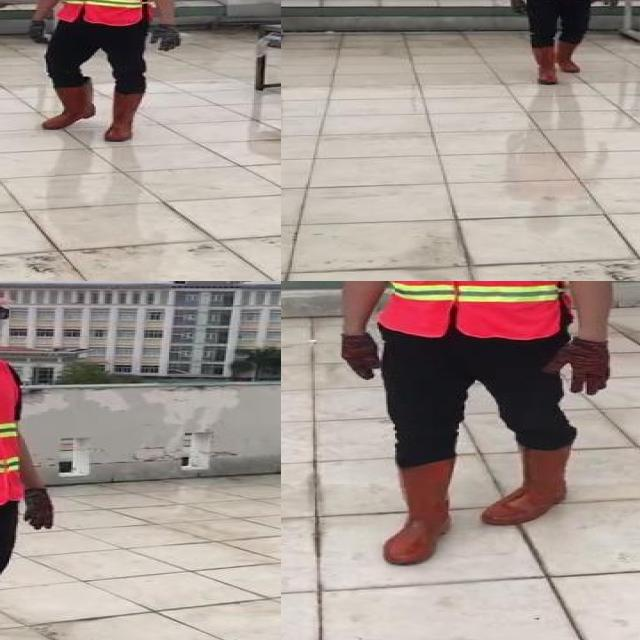boots: (384, 458, 458, 566), (480, 444, 574, 525), (44, 80, 98, 130), (103, 93, 142, 142), (528, 44, 558, 83), (553, 36, 582, 74)
glasses: (0, 303, 13, 323)
hand_glove: (544, 340, 616, 395), (338, 336, 383, 380), (23, 488, 57, 530), (149, 22, 181, 54), (25, 19, 51, 46), (507, 0, 525, 17), (599, 0, 622, 10)
person: (317, 281, 625, 572), (21, 0, 184, 142), (0, 281, 57, 640), (502, 0, 618, 87)
vest: (373, 281, 569, 338), (55, 0, 149, 24)
